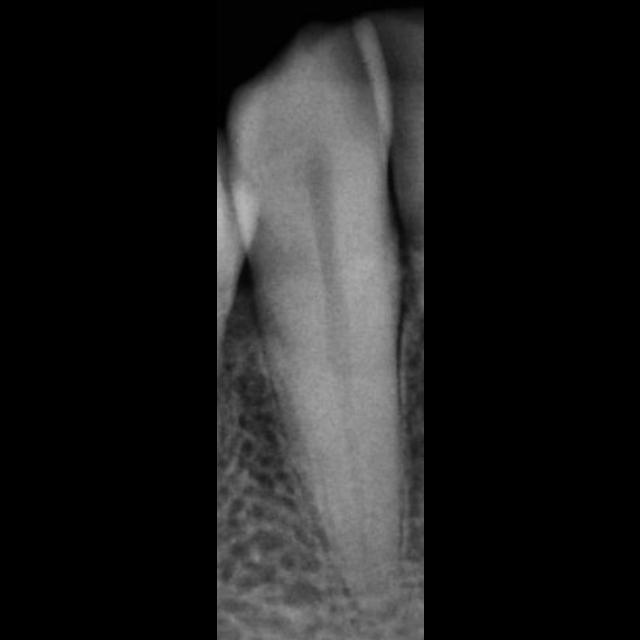tooth: (224, 16, 403, 617)
